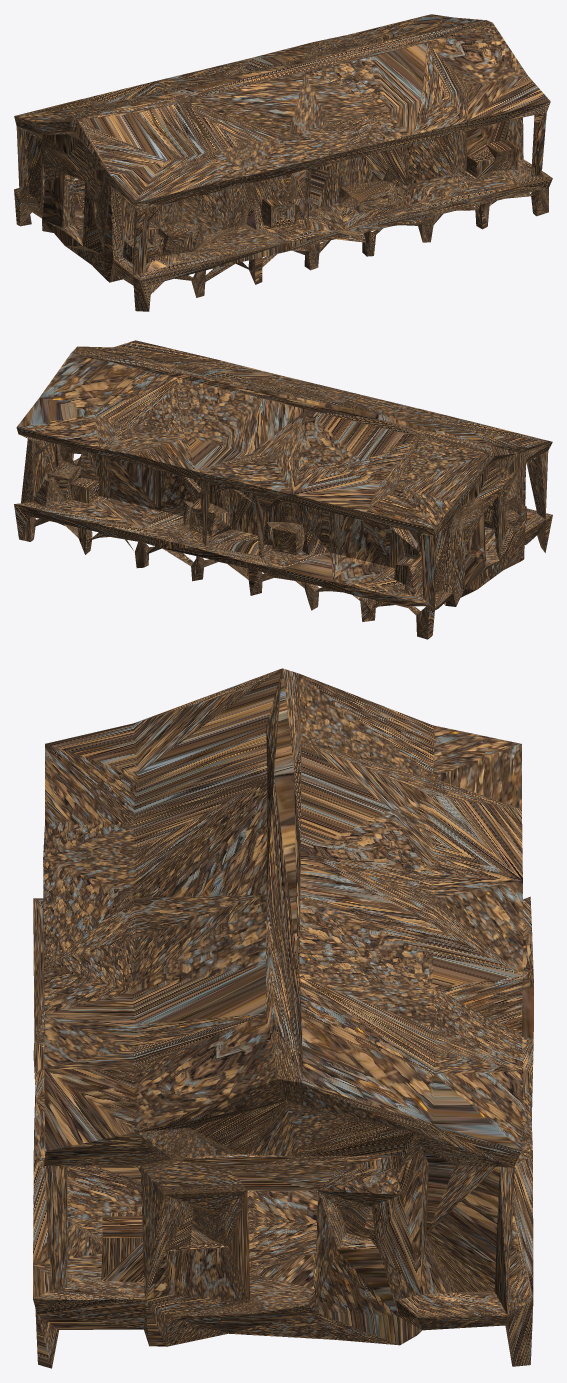
The model's file is depot_1x2.glb.
The picture shows the model from 3 angles, top to bottom: view 1: azimuth 30°, elevation 25°; view 2: azimuth 150°, elevation 25°; view 3: azimuth 270°, elevation 25°; orthographic projection. The views are drawn at different scales.
Visible parts, largest first — view 1: normalize; view 2: normalize; view 3: normalize.
Part boxes in pixels (<box>): normalize: <box>14,14,552,311</box>; normalize: <box>14,340,552,639</box>; normalize: <box>33,668,533,1368</box>.
Size of the model in its own units: 1 by 0.3443 by 0.515.
Materials: 1 (1 with a texture image).
